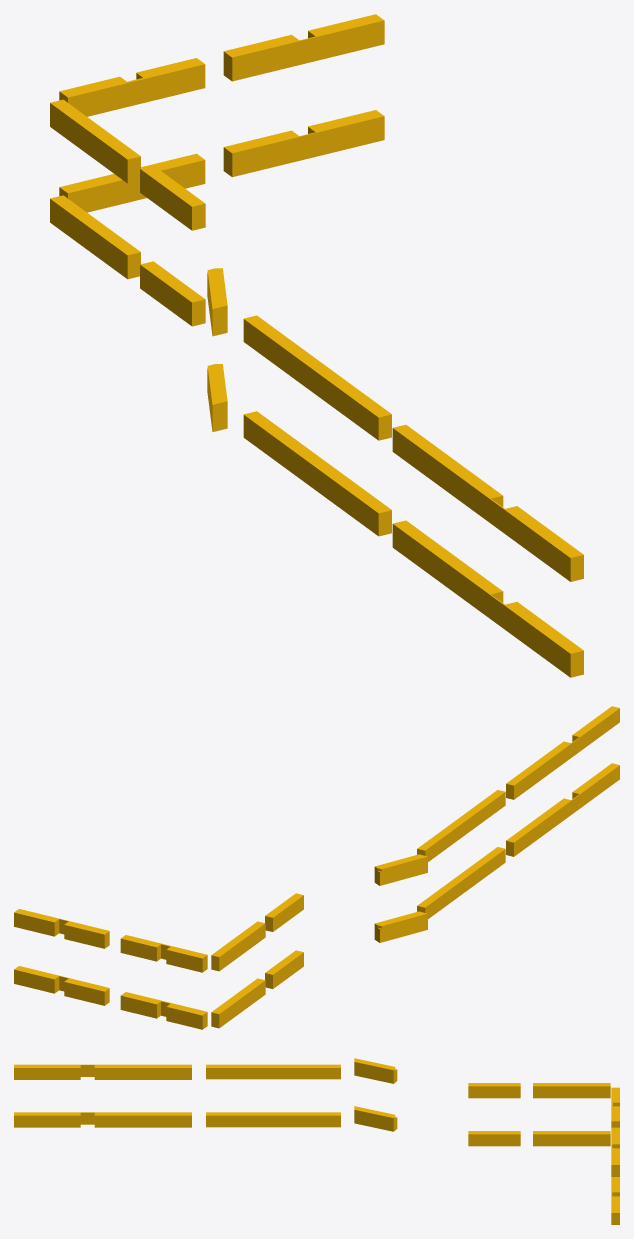
Rendered from component-beams.gltf.
3 renders of one model, top to bottom at view 1: azimuth 30°, elevation 25°; view 2: azimuth 150°, elevation 25°; view 3: azimuth 270°, elevation 25°, orthographic. The views are drawn at different scales.
Visible parts, largest first — view 1: 樑; view 2: 樑; view 3: 樑.
Part boxes in pixels (left/top/right/bottom): 樑: left=50, top=14, right=583, bottom=677; 樑: left=14, top=706, right=619, bottom=1029; 樑: left=14, top=1058, right=619, bottom=1224.
Bounding box in the file's own units: 15.95 × 4.4 × 39.
